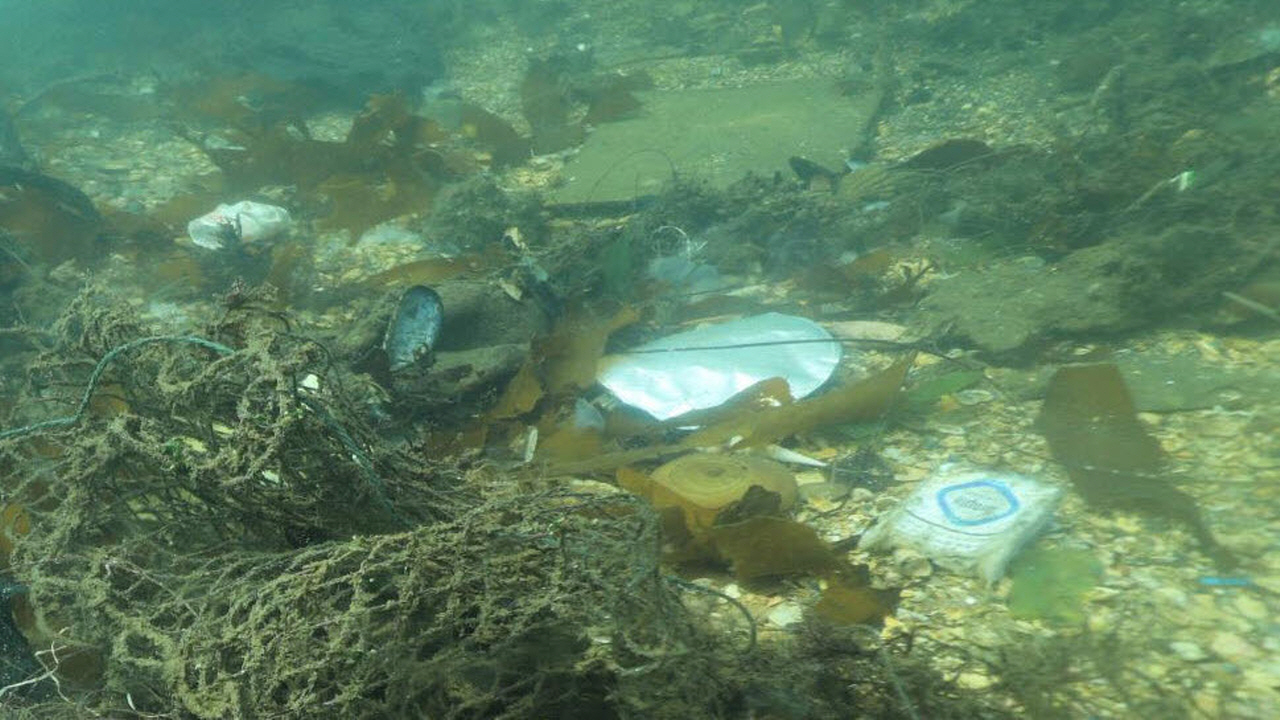fish net: (0, 276, 692, 720)
